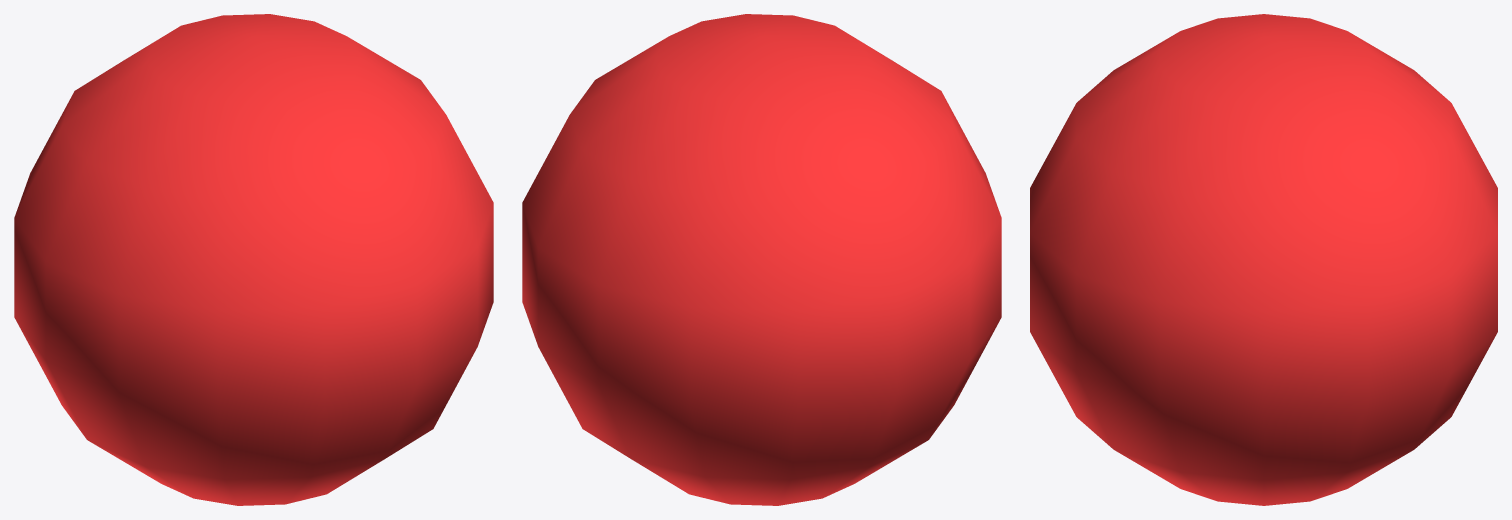
The model's file is BallRedLow.fbx.
3 views of the same model, side by side, from view 1: azimuth 30°, elevation 25°; view 2: azimuth 150°, elevation 25°; view 3: azimuth 270°, elevation 25° (orthographic).
Visible parts, largest first — view 1: BallRed1; view 2: BallRed1; view 3: BallRed1.
Part boxes in pixels (bbox=[...]): BallRed1: bbox=[14, 14, 493, 505]; BallRed1: bbox=[522, 14, 1001, 505]; BallRed1: bbox=[1030, 14, 1497, 505].
Size of the model in its own units: 1.03 by 1.05 by 1.
